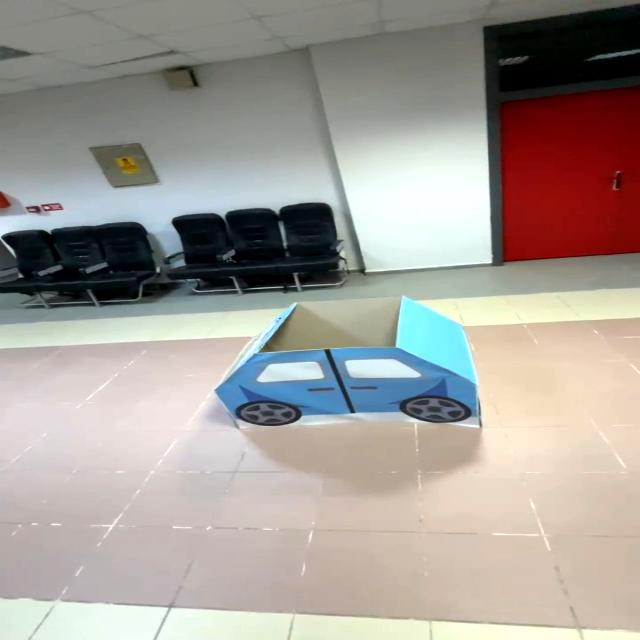blue_car: (198, 287, 504, 472)
